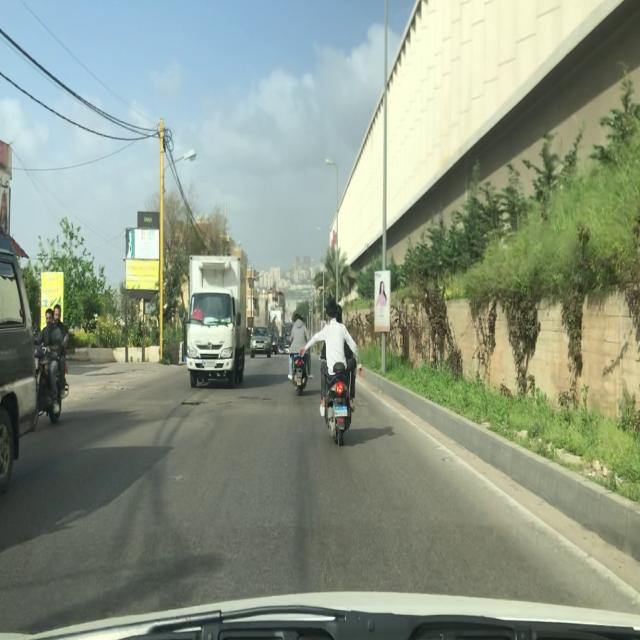Pothole: (181, 399, 204, 408)
